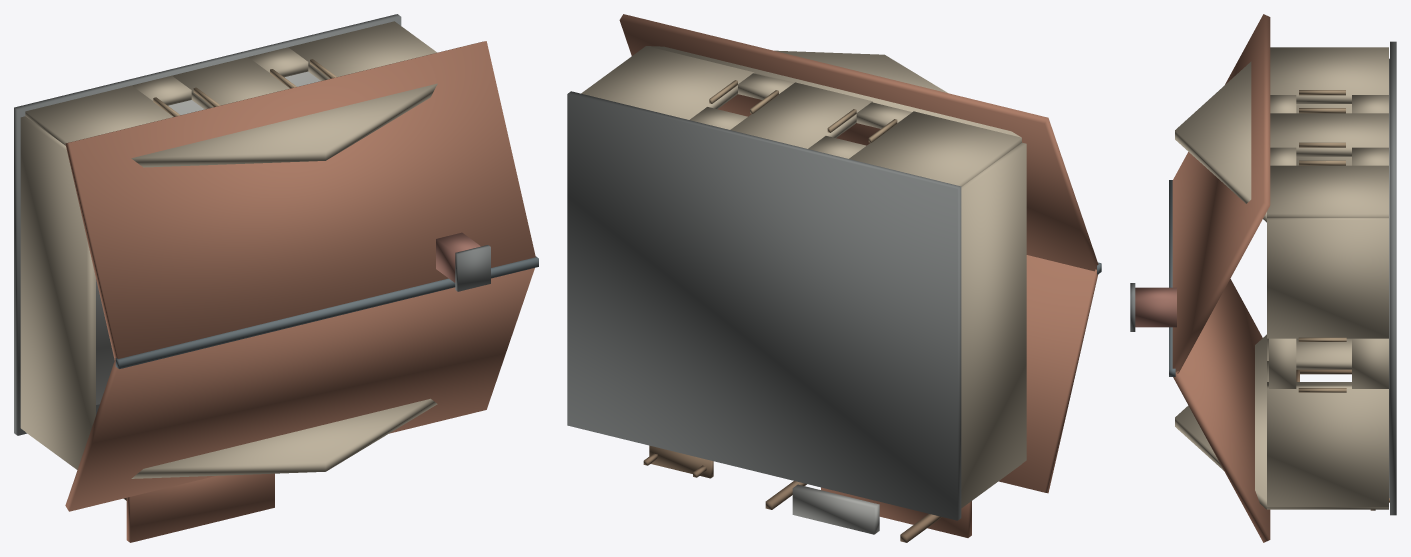
File: farmhouse.glb
The picture shows the model from 3 angles, left to right: view 1: azimuth 30°, elevation 25°; view 2: azimuth 150°, elevation 25°; view 3: azimuth 270°, elevation 25°; orthographic projection. The views are drawn at different scales.
Visible parts, largest first — view 1: farmhouse; view 2: farmhouse; view 3: farmhouse.
Part boxes in pixels (box(x1,y1,x2,y2)): farmhouse: box(14, 14, 538, 542); farmhouse: box(567, 14, 1101, 542); farmhouse: box(1130, 14, 1396, 542).
Size of the model in its own units: 10.45 by 10.04 by 6.22.
